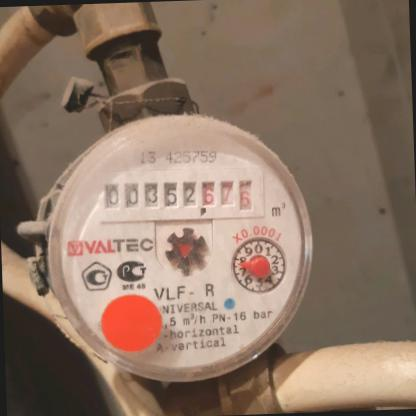digital_screen: (94, 165, 202, 225)
